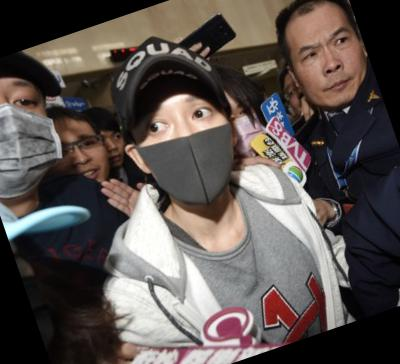with_mask: (124, 79, 252, 220), (221, 96, 278, 165)
without_mask: (284, 19, 378, 117), (47, 124, 120, 201), (95, 128, 131, 173)
